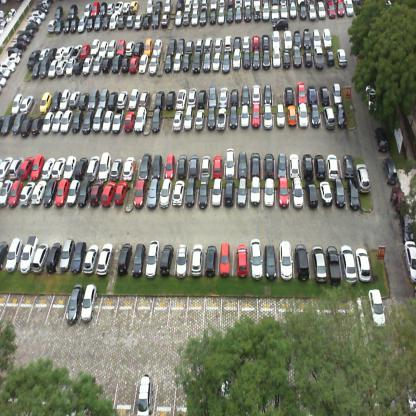car: (64, 284, 84, 324), (19, 234, 39, 274), (367, 286, 386, 328), (136, 374, 154, 415), (79, 374, 97, 415), (81, 282, 97, 324), (340, 244, 357, 283), (6, 238, 24, 273), (279, 238, 293, 282), (326, 244, 342, 282), (145, 239, 160, 279), (312, 245, 328, 282), (249, 236, 263, 278), (403, 240, 416, 284), (294, 244, 309, 281), (355, 247, 371, 281), (116, 242, 132, 276), (96, 244, 113, 276), (71, 239, 87, 273), (59, 238, 75, 272), (390, 184, 408, 214), (131, 244, 147, 276), (218, 379, 232, 415), (32, 242, 48, 273), (43, 176, 58, 209), (381, 156, 398, 185), (264, 244, 277, 281), (356, 162, 371, 194), (159, 244, 174, 276), (46, 242, 62, 272), (346, 178, 361, 210), (83, 245, 99, 274), (54, 177, 69, 207), (7, 179, 23, 207), (204, 244, 217, 278), (332, 178, 346, 209), (374, 125, 390, 152), (159, 176, 172, 209), (98, 150, 111, 183), (19, 181, 36, 206), (400, 211, 414, 241), (176, 243, 188, 278), (30, 179, 46, 205), (236, 244, 248, 278), (18, 156, 35, 180), (219, 242, 230, 279), (304, 180, 318, 209), (190, 244, 202, 277), (101, 180, 115, 208), (322, 104, 336, 132), (138, 153, 152, 180), (114, 180, 128, 207), (134, 178, 146, 209), (0, 113, 16, 136), (319, 180, 333, 206), (89, 181, 103, 207), (63, 154, 77, 180), (67, 180, 81, 206), (31, 153, 44, 181), (0, 179, 13, 207), (112, 107, 126, 133), (147, 177, 158, 210), (292, 178, 304, 208), (278, 177, 289, 209), (121, 155, 135, 180), (110, 156, 124, 181), (134, 107, 148, 132), (78, 179, 90, 208), (41, 156, 56, 179), (172, 180, 185, 206), (101, 108, 114, 134), (60, 109, 73, 135), (366, 84, 378, 112), (249, 177, 261, 205), (211, 178, 223, 206), (8, 157, 24, 178), (343, 151, 355, 178), (264, 151, 276, 178), (335, 102, 347, 129), (74, 157, 88, 180), (38, 91, 52, 114), (223, 180, 235, 206), (87, 155, 99, 181), (82, 110, 95, 134), (225, 147, 235, 178), (302, 153, 313, 181), (237, 178, 248, 206), (185, 178, 196, 206), (30, 114, 44, 136), (20, 115, 34, 137), (27, 48, 41, 70), (314, 154, 326, 179), (250, 152, 262, 177), (309, 103, 321, 128), (124, 109, 136, 134), (93, 107, 105, 132), (19, 94, 34, 114), (0, 157, 13, 180), (327, 153, 338, 180), (264, 180, 275, 207), (12, 113, 26, 134), (151, 154, 163, 178), (51, 108, 63, 132), (289, 152, 300, 178), (212, 154, 223, 180), (188, 153, 199, 179), (52, 156, 65, 178), (297, 103, 308, 129), (71, 109, 84, 131), (82, 54, 95, 76), (238, 150, 248, 178), (198, 180, 208, 208), (127, 88, 139, 111), (59, 88, 71, 111), (151, 107, 162, 132), (0, 241, 9, 271), (276, 151, 286, 178), (263, 104, 273, 131), (88, 87, 100, 109), (50, 90, 62, 112), (11, 93, 23, 115), (43, 110, 54, 134), (176, 154, 186, 180), (165, 152, 175, 178), (276, 102, 286, 128), (216, 107, 227, 130), (291, 45, 302, 68), (38, 59, 52, 77), (195, 106, 205, 131), (184, 105, 194, 130), (73, 56, 86, 75), (47, 60, 60, 79), (331, 82, 342, 104), (176, 88, 187, 110), (165, 90, 176, 112), (221, 51, 232, 73), (251, 104, 261, 128), (206, 106, 216, 130), (296, 82, 307, 103), (218, 84, 228, 107), (302, 26, 312, 49), (116, 90, 128, 109), (30, 60, 42, 79), (200, 156, 211, 176), (307, 84, 318, 104), (286, 104, 296, 126), (262, 82, 272, 104), (240, 83, 250, 105), (240, 105, 250, 127), (173, 111, 184, 131), (99, 89, 110, 109), (337, 46, 347, 68), (282, 48, 292, 70), (192, 51, 202, 73), (65, 57, 76, 77), (229, 104, 238, 128), (78, 92, 90, 110), (56, 58, 68, 76), (252, 50, 262, 71), (322, 28, 333, 47), (148, 55, 159, 74), (111, 54, 122, 73), (326, 0, 337, 19), (272, 17, 288, 30), (128, 56, 140, 73), (320, 84, 330, 104), (154, 89, 164, 109), (314, 48, 324, 68), (271, 49, 281, 69), (202, 52, 212, 72), (138, 54, 148, 74), (107, 38, 117, 58), (208, 85, 217, 107), (311, 28, 322, 46), (101, 57, 112, 75), (335, 0, 346, 18), (69, 92, 81, 108), (133, 40, 145, 56), (0, 60, 16, 72), (187, 87, 197, 106), (325, 47, 335, 66), (292, 29, 302, 48), (164, 54, 174, 73), (285, 84, 294, 104), (197, 90, 207, 108), (138, 90, 150, 105), (304, 47, 313, 67), (284, 30, 293, 50), (262, 51, 272, 69), (212, 52, 221, 72), (203, 36, 213, 54), (176, 36, 186, 54), (173, 52, 182, 72), (93, 55, 103, 73), (90, 38, 100, 56), (71, 43, 83, 58), (70, 16, 80, 34), (78, 16, 88, 34), (252, 83, 260, 105), (242, 50, 250, 72), (182, 52, 190, 74), (152, 40, 163, 56), (116, 39, 127, 55), (232, 50, 241, 69), (108, 91, 118, 108), (143, 37, 153, 54), (109, 13, 119, 30), (198, 9, 208, 26), (7, 46, 22, 57), (31, 9, 46, 20), (230, 88, 239, 106), (214, 36, 223, 54), (225, 6, 234, 24), (194, 36, 204, 52), (167, 39, 177, 55), (98, 40, 108, 56), (80, 44, 90, 60), (68, 3, 78, 19), (117, 14, 127, 30), (134, 13, 144, 29), (63, 45, 74, 59), (39, 46, 50, 60), (173, 9, 182, 26), (272, 31, 280, 50), (252, 32, 260, 51), (224, 34, 232, 53), (262, 2, 270, 21), (5, 53, 20, 63), (55, 19, 65, 34), (90, 0, 100, 15), (99, 0, 109, 15), (142, 15, 152, 30), (345, 0, 355, 15), (185, 39, 194, 55), (94, 14, 103, 30), (308, 4, 317, 20), (318, 2, 326, 20), (113, 1, 124, 14), (13, 40, 27, 50), (17, 34, 31, 44), (48, 18, 58, 32), (298, 3, 306, 20), (125, 40, 134, 55), (0, 66, 11, 78), (55, 46, 65, 59), (252, 4, 260, 20), (280, 1, 288, 17), (25, 22, 39, 31), (62, 19, 71, 33), (86, 16, 95, 30), (126, 13, 135, 27), (146, 0, 155, 14), (47, 47, 57, 59), (29, 16, 41, 26), (102, 15, 110, 30), (152, 13, 160, 28), (244, 4, 251, 21), (154, 0, 163, 13), (161, 12, 170, 25), (218, 5, 224, 24), (262, 34, 270, 48), (233, 35, 241, 49), (83, 1, 91, 15), (107, 0, 114, 16), (182, 11, 190, 25), (190, 10, 198, 24), (290, 2, 297, 18), (54, 6, 63, 18), (122, 1, 131, 13), (210, 7, 216, 25), (22, 29, 35, 37), (235, 4, 241, 21), (129, 1, 138, 12), (191, 0, 200, 11), (242, 35, 249, 49), (36, 6, 48, 14), (272, 3, 278, 19), (184, 0, 191, 13), (164, 0, 171, 12), (175, 0, 184, 9), (0, 76, 7, 87), (40, 0, 51, 6), (201, 0, 209, 8)
